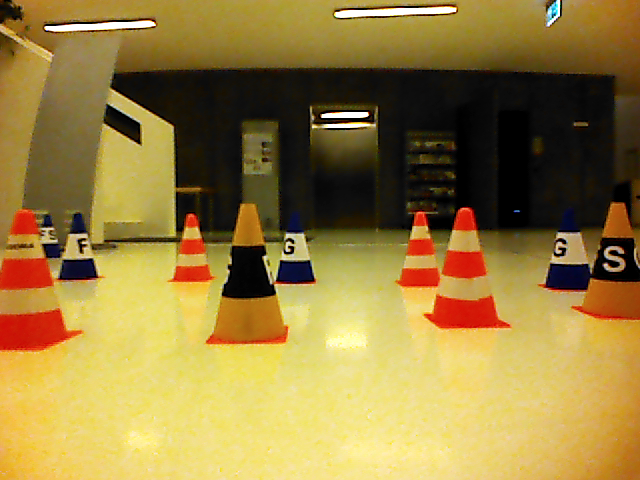bluecone: (546, 207, 591, 290), (276, 210, 315, 283), (60, 213, 98, 281), (43, 214, 60, 258)
orangeconesmall: (436, 207, 498, 325), (400, 211, 440, 285), (174, 212, 211, 280)
yellowcone: (214, 202, 284, 340), (581, 199, 640, 316)
